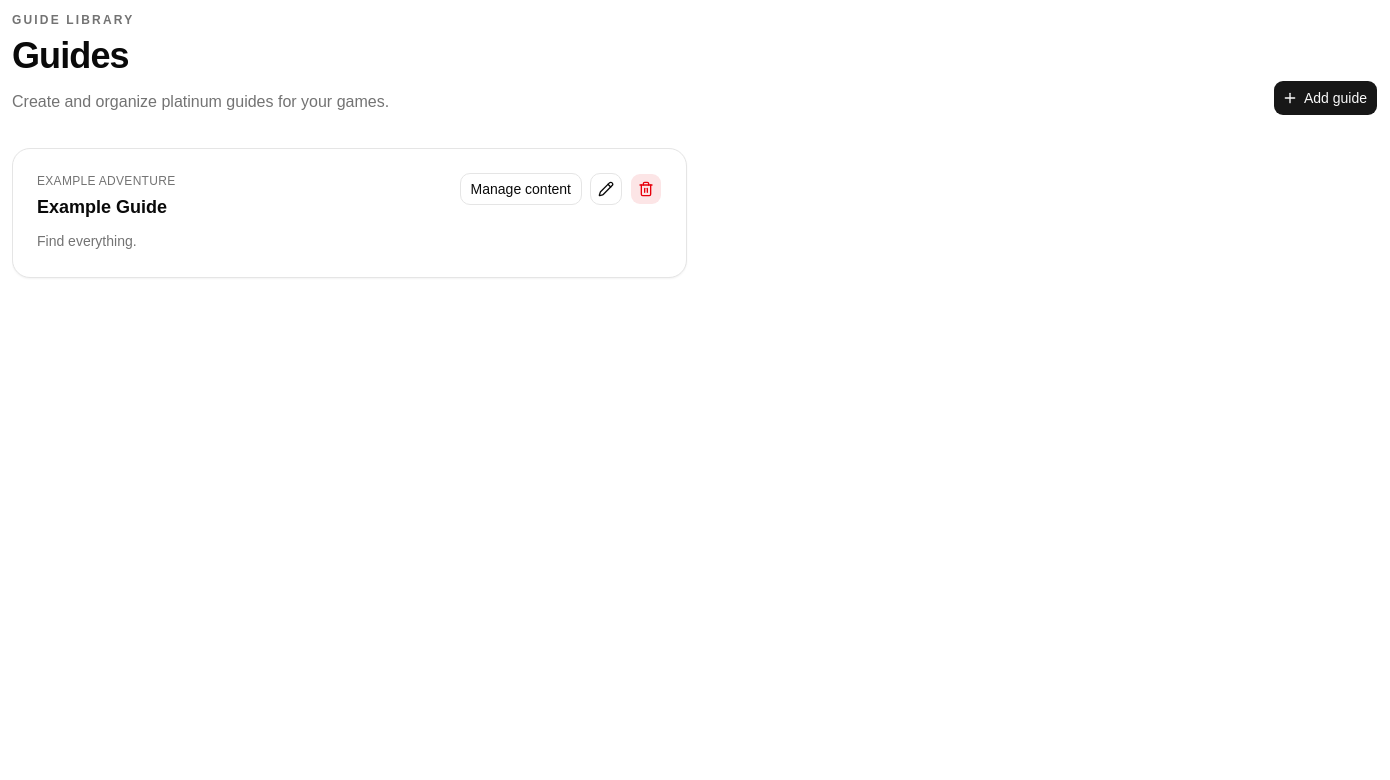
Test: GuidesPage › creates a guide for a selected game
Expected: the heading "Example Guide" is shown, x1=37 y1=193 x2=176 y2=221
Click the button "Add guide": (1325, 98) x1=1273 y1=80 x2=1378 y2=116
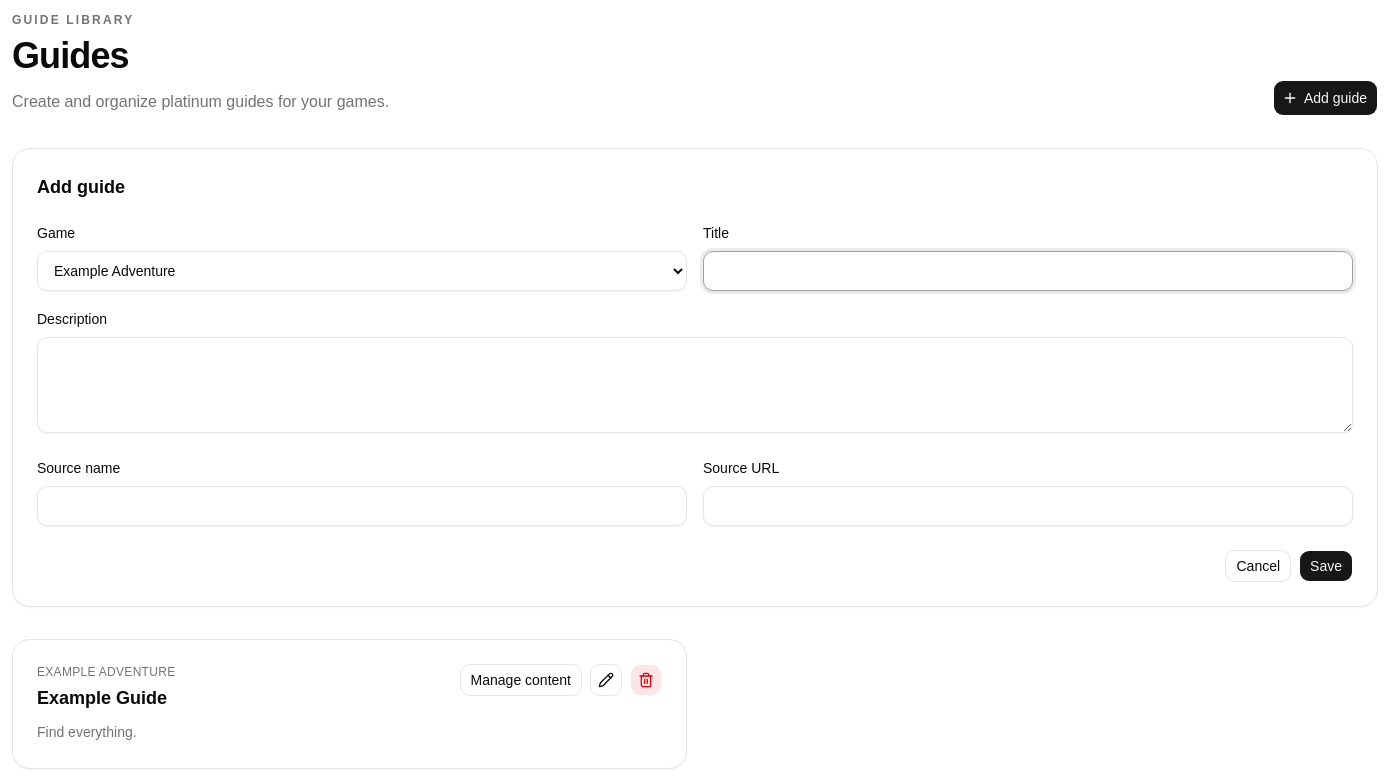
In the field labelled "Title": (1028, 271) x1=703 y1=251 x2=1353 y2=291, type "New Guide"
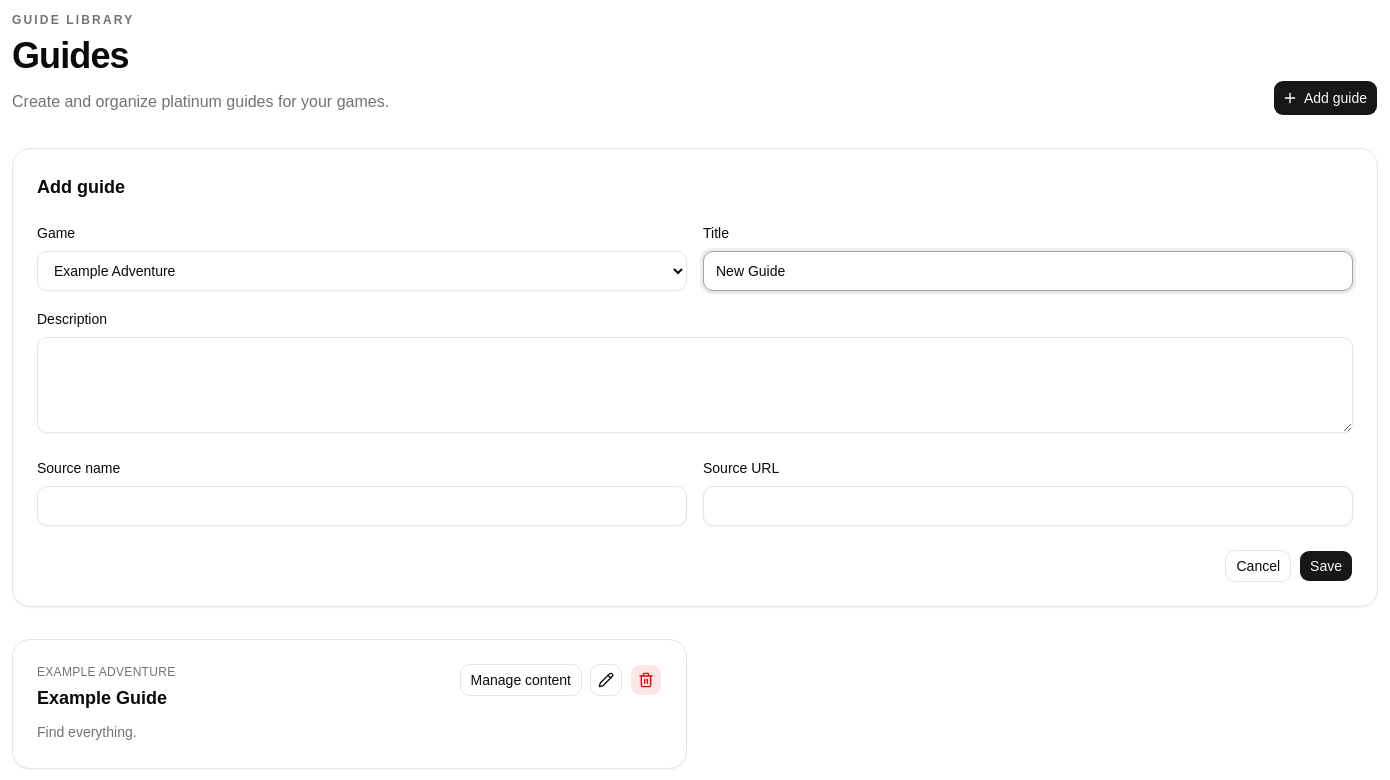
Click the button "Save": (1326, 566) x1=1299 y1=550 x2=1353 y2=582
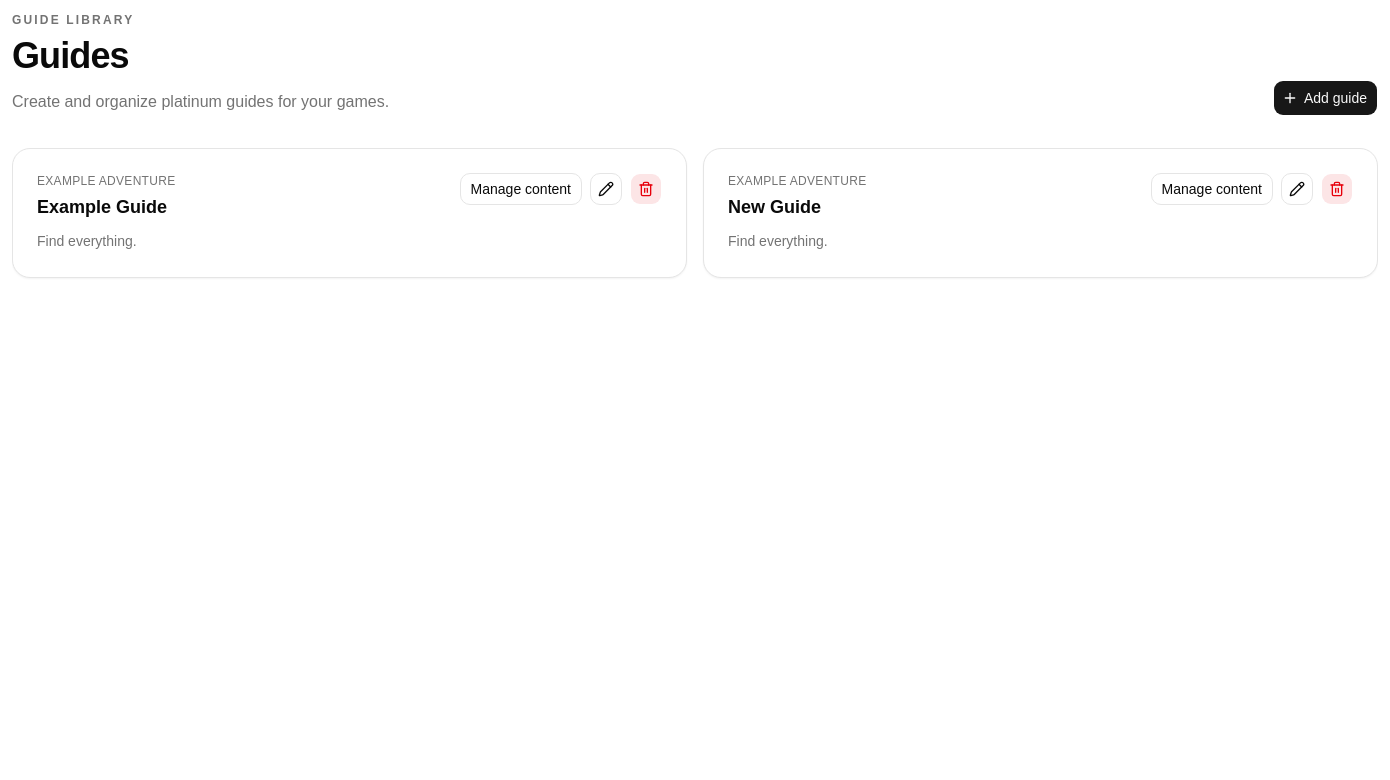
Expected: the heading "New Guide" is shown, x1=728 y1=197 x2=821 y2=217
